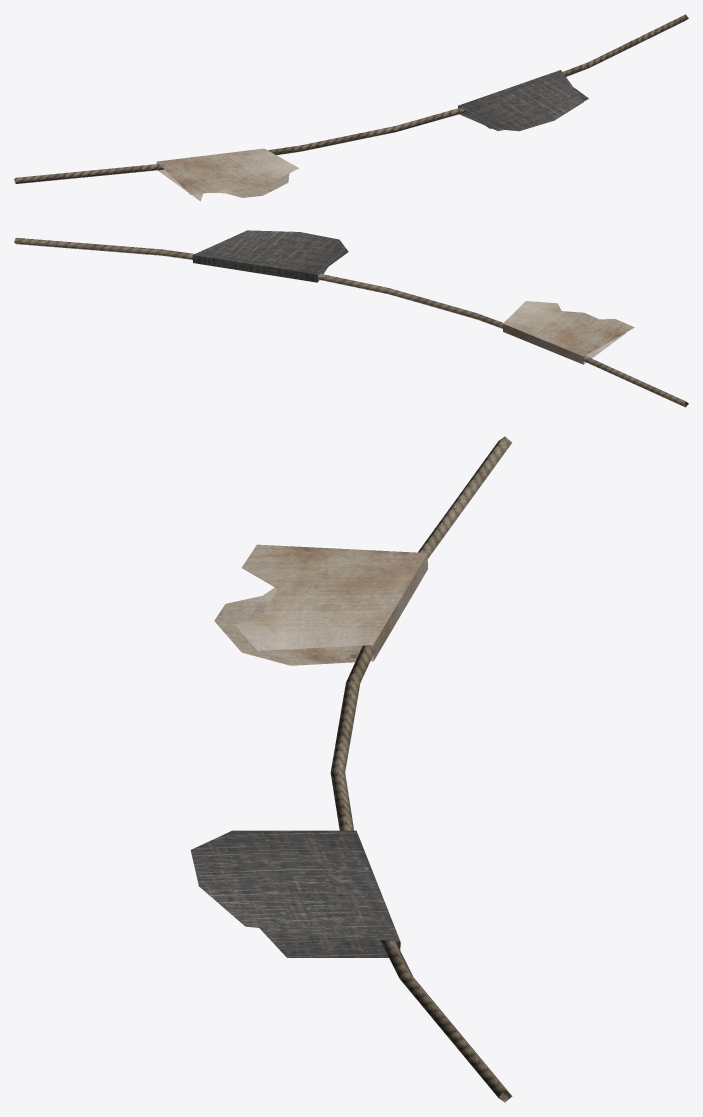
The model's file is Clothe_Line_Long_C.fbx.
The picture shows the model from 3 angles, top to bottom: view 1: azimuth 30°, elevation 25°; view 2: azimuth 150°, elevation 25°; view 3: azimuth 270°, elevation 25°; orthographic projection. The views are drawn at different scales.
Visible parts, largest first — view 1: Clothe_Line_Long_C; view 2: Clothe_Line_Long_C; view 3: Clothe_Line_Long_C.
Part boxes in pixels (x1,y1,x2,y2): Clothe_Line_Long_C: (14, 14, 688, 201); Clothe_Line_Long_C: (14, 230, 688, 407); Clothe_Line_Long_C: (190, 436, 512, 1102).
Bounding box in the file's own units: 5.78 × 0.0696 × 1.2.
